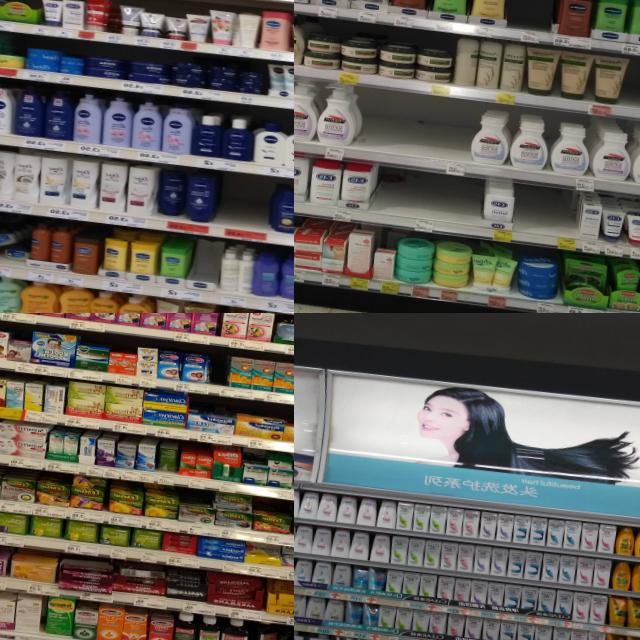100% O.O.S: (209, 346, 228, 396), (289, 455, 294, 500)
100- O.O.S: (358, 88, 472, 176), (374, 167, 482, 237), (513, 185, 571, 249), (219, 172, 270, 241), (506, 0, 553, 44), (623, 55, 640, 120)
